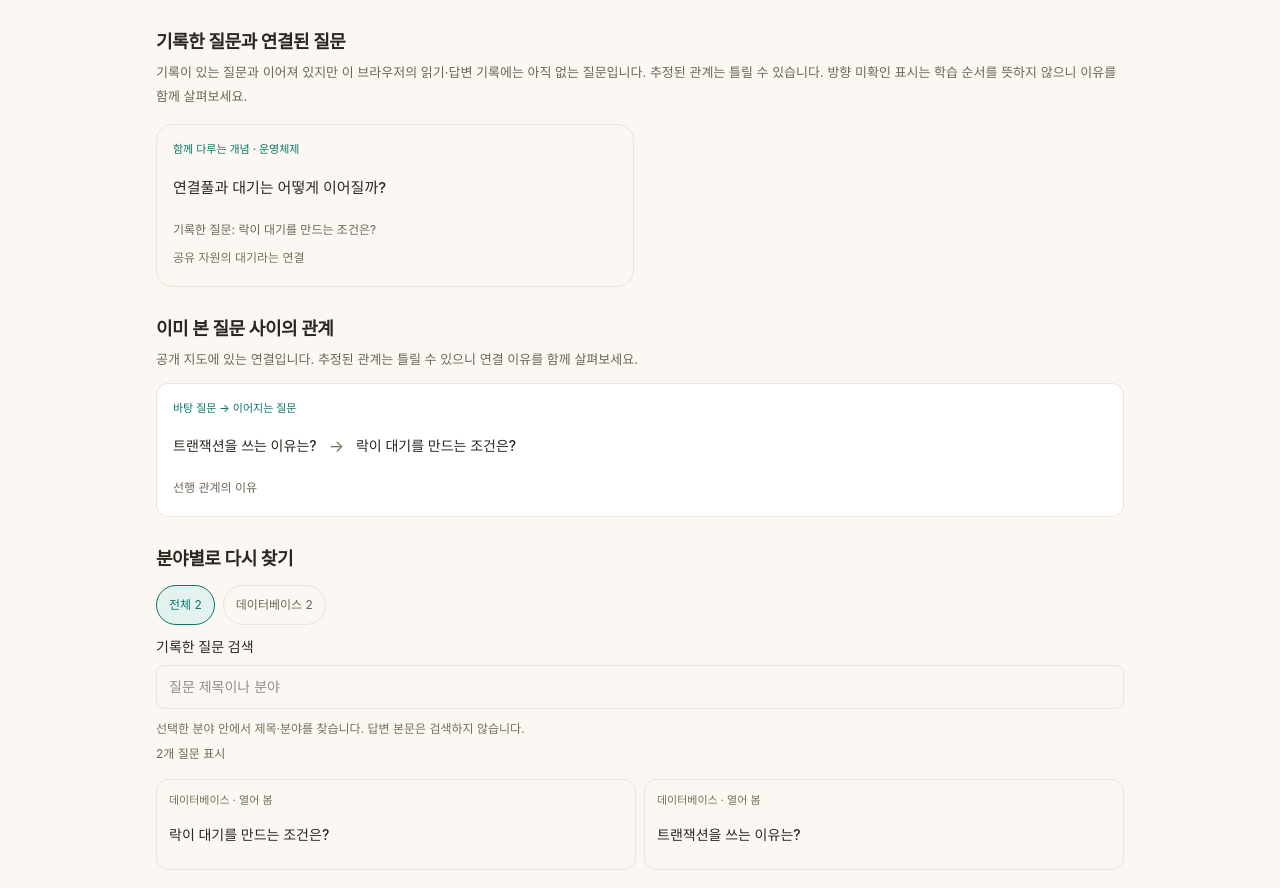
recorded knowledge connections › downloads a local Markdown document on request and releases the URL without changing records
The image size is (1280, 888).
(page scrolled)
Type "일치하지 않는 검색어" into the search field labelled "기록한 질문 검색" at (640, 687), box [156, 665, 1124, 709]
(page scrolled)
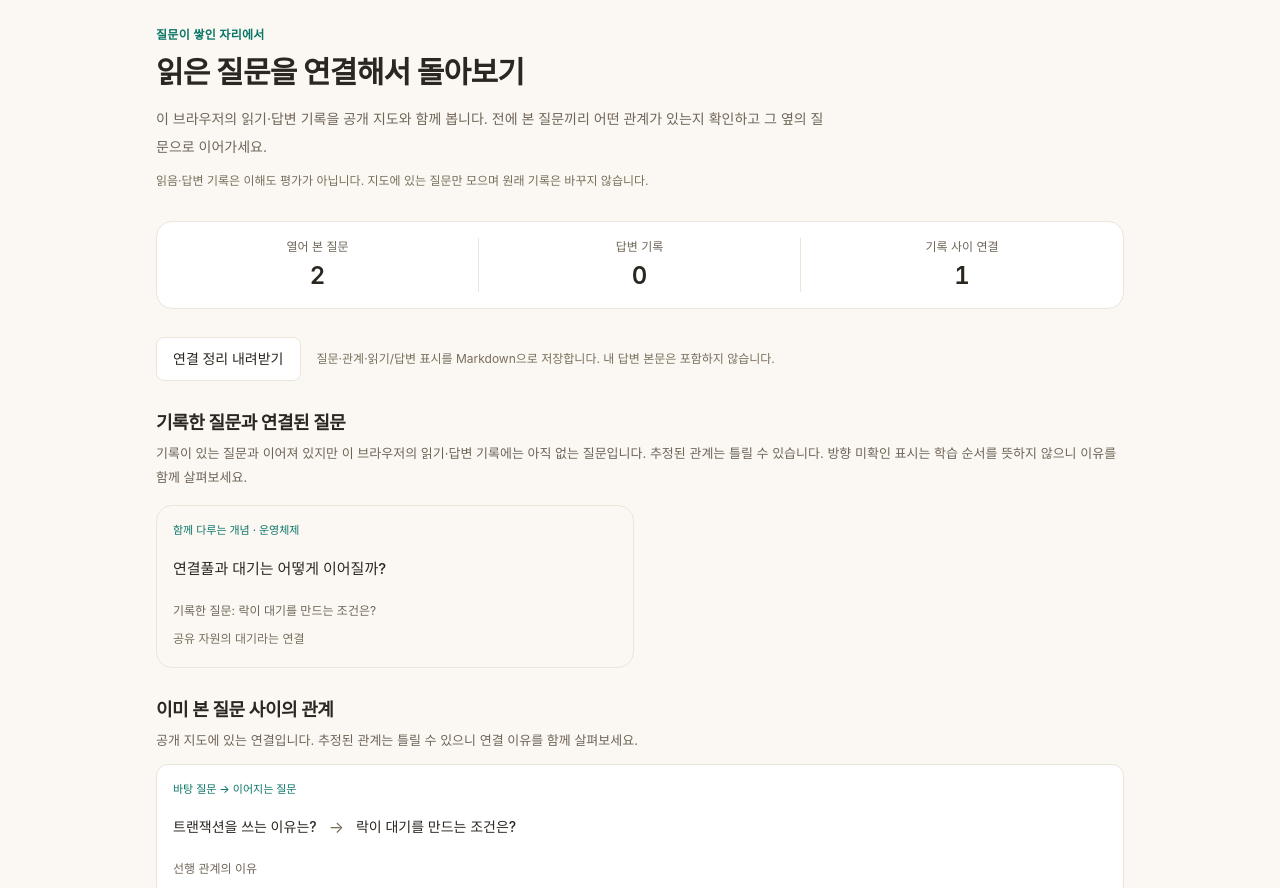
Click the button "연결 정리 내려받기" at (228, 359), box [156, 337, 300, 381]
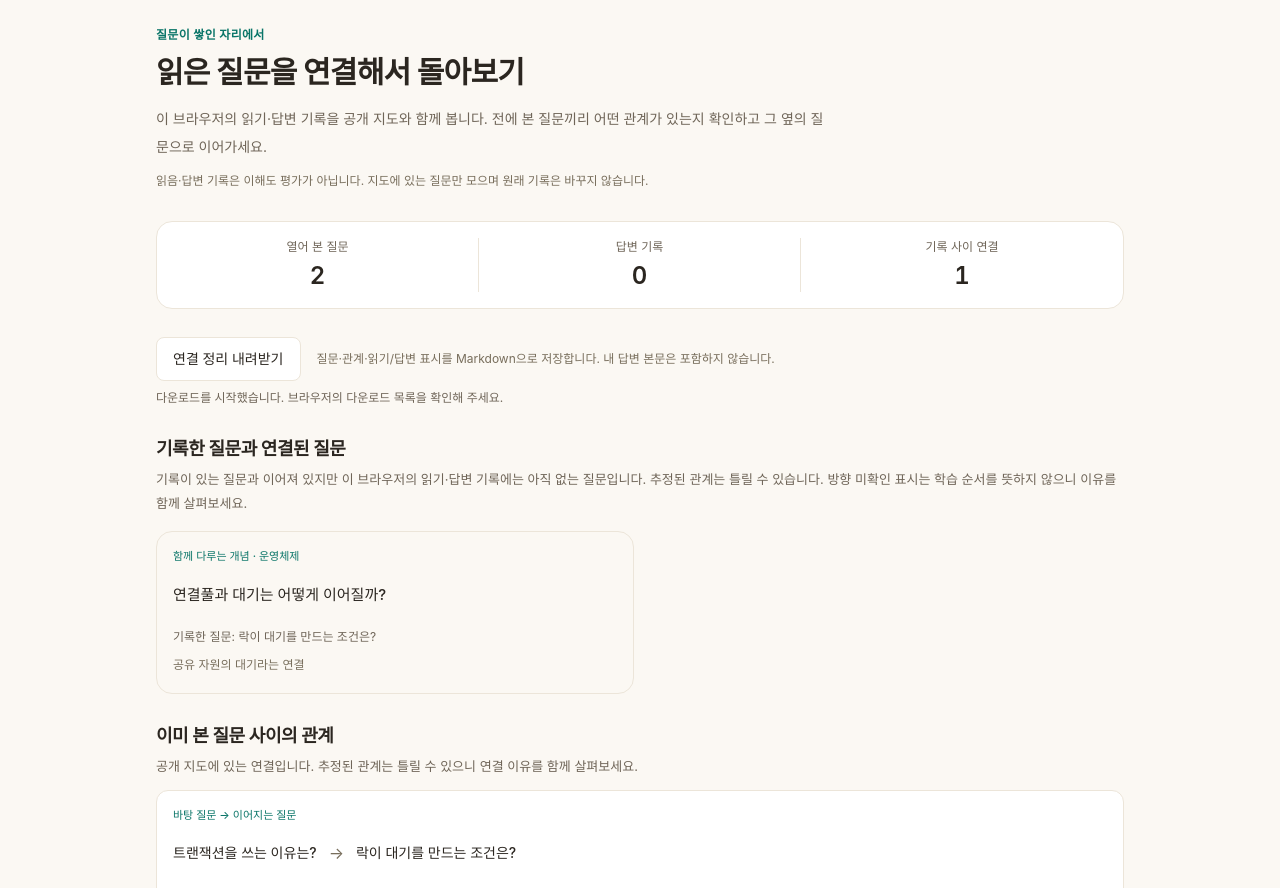
Check: the text "다운로드를 시작했습니다. 브라우저의 다운로드 목록을 확인해 주세요." is shown, box [156, 390, 503, 405]
